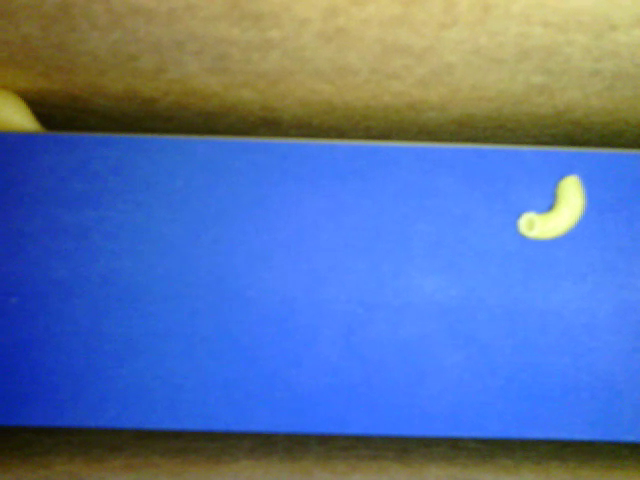elbow: (515, 173, 586, 241)
